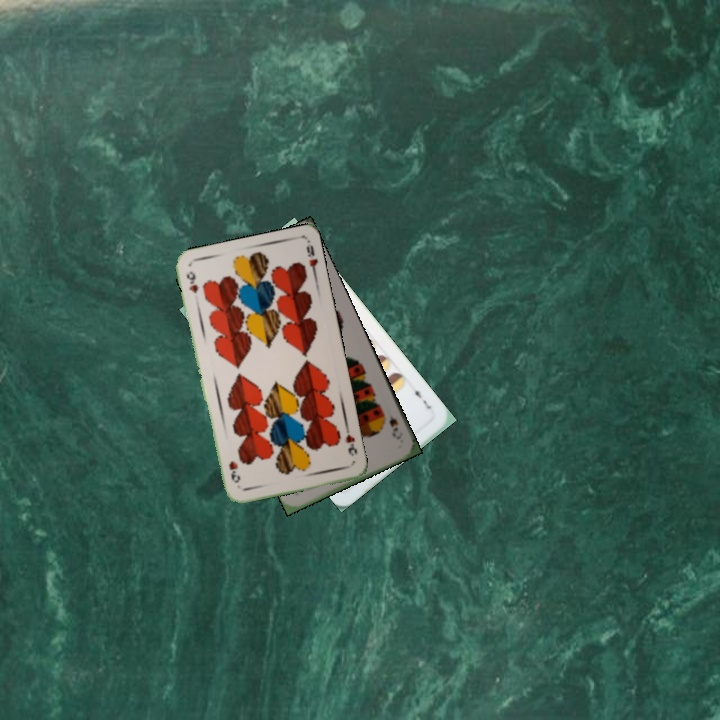E7: (410, 382, 434, 412)
H9: (341, 423, 360, 459), (182, 267, 201, 296)
S9: (385, 411, 406, 442)
